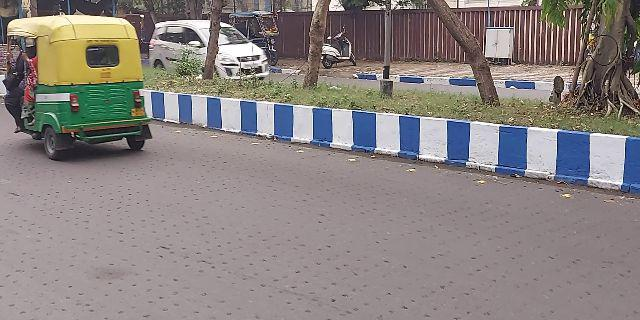Autorickshaw: (5, 18, 154, 147)
Car: (162, 22, 269, 78)
